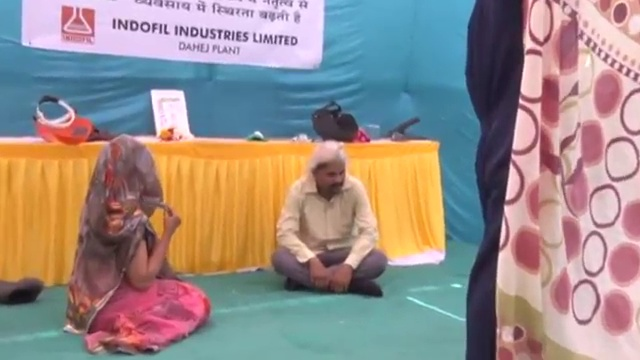helmet_off: (100, 140, 162, 200), (310, 144, 347, 199)
person: (65, 136, 212, 356), (461, 1, 527, 360), (270, 142, 388, 297)
